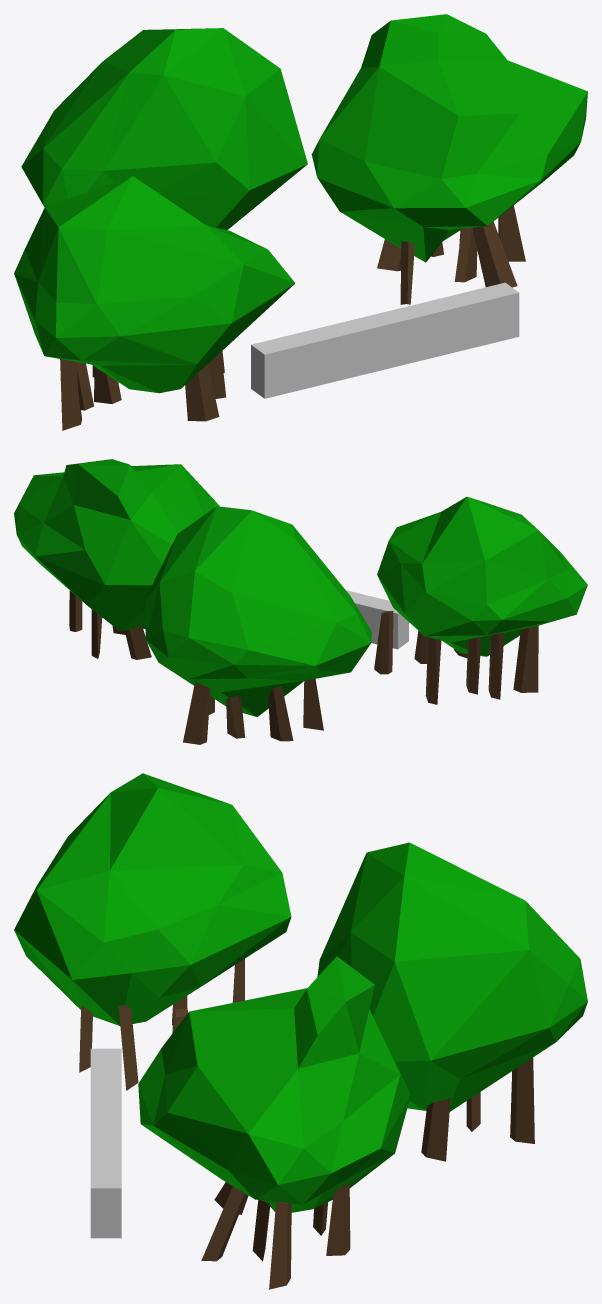
The model's file is Landscape.fbx.
3 renders of one model, top to bottom at view 1: azimuth 30°, elevation 25°; view 2: azimuth 150°, elevation 25°; view 3: azimuth 270°, elevation 25°, orthographic. The views are drawn at different scales.
Visible parts, largest first — view 1: Landscape; view 2: Landscape; view 3: Landscape.
Boxes of the visible parts, left/top/right/bottom form: Landscape: left=14, top=14, right=587, bottom=430; Landscape: left=14, top=459, right=587, bottom=744; Landscape: left=14, top=773, right=587, bottom=1289.
Bounding box in the file's own units: 6187 × 2456 × 4406.
